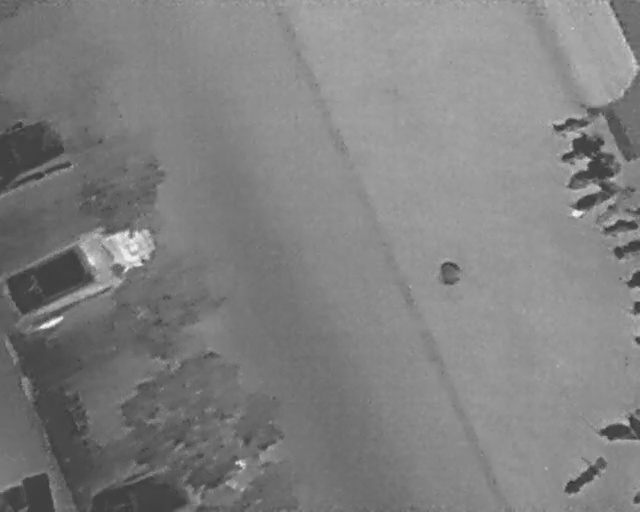Bicycle: (554, 143, 626, 198), (559, 172, 629, 222), (555, 447, 615, 500), (590, 176, 635, 230), (553, 126, 611, 167), (548, 109, 596, 140), (598, 413, 639, 442), (601, 218, 638, 236), (613, 237, 639, 261), (624, 270, 639, 288)
Car: (0, 225, 157, 334), (87, 447, 251, 510), (0, 115, 85, 195)
